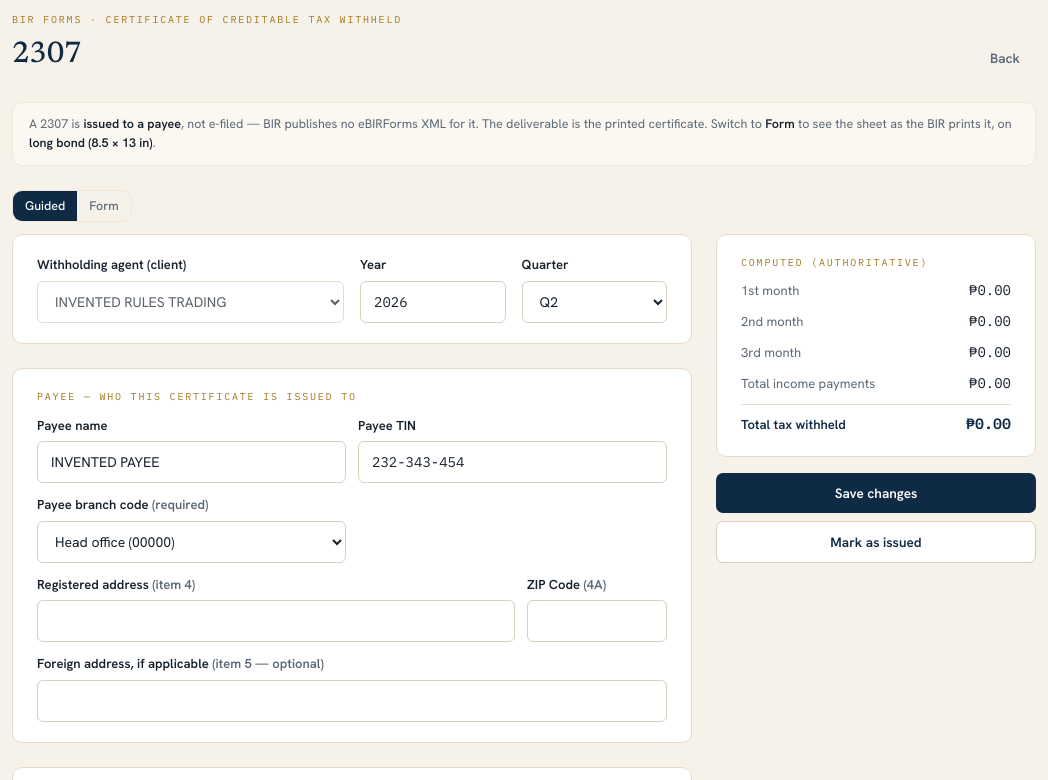
Test: T5 a freshly mounted form, and overlapping actions (W3 review round 2) › holds Mark as issued while a save is in flight
expect the button "Mark as issued" is enabled: met, box [716,521,1036,563]
Click the button "Save changes" at {"x": 876, "y": 493}, box [716,473,1036,513]
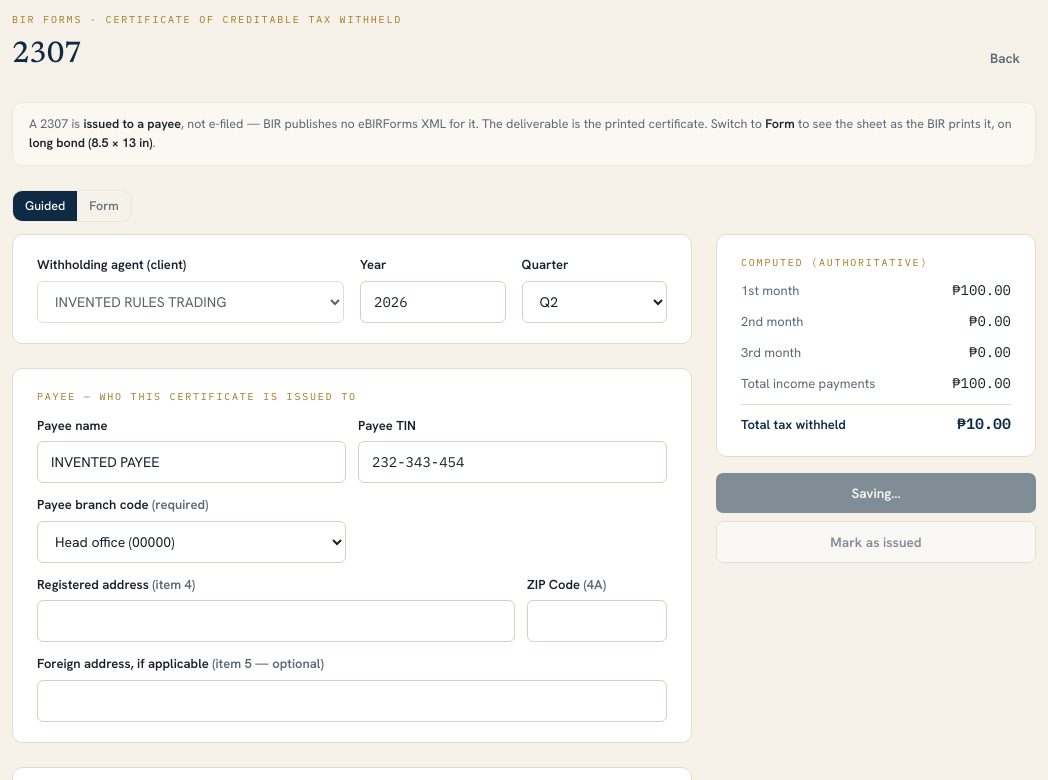
expect the button "Mark as issued" is disabled: met, box [716,521,1036,563]
